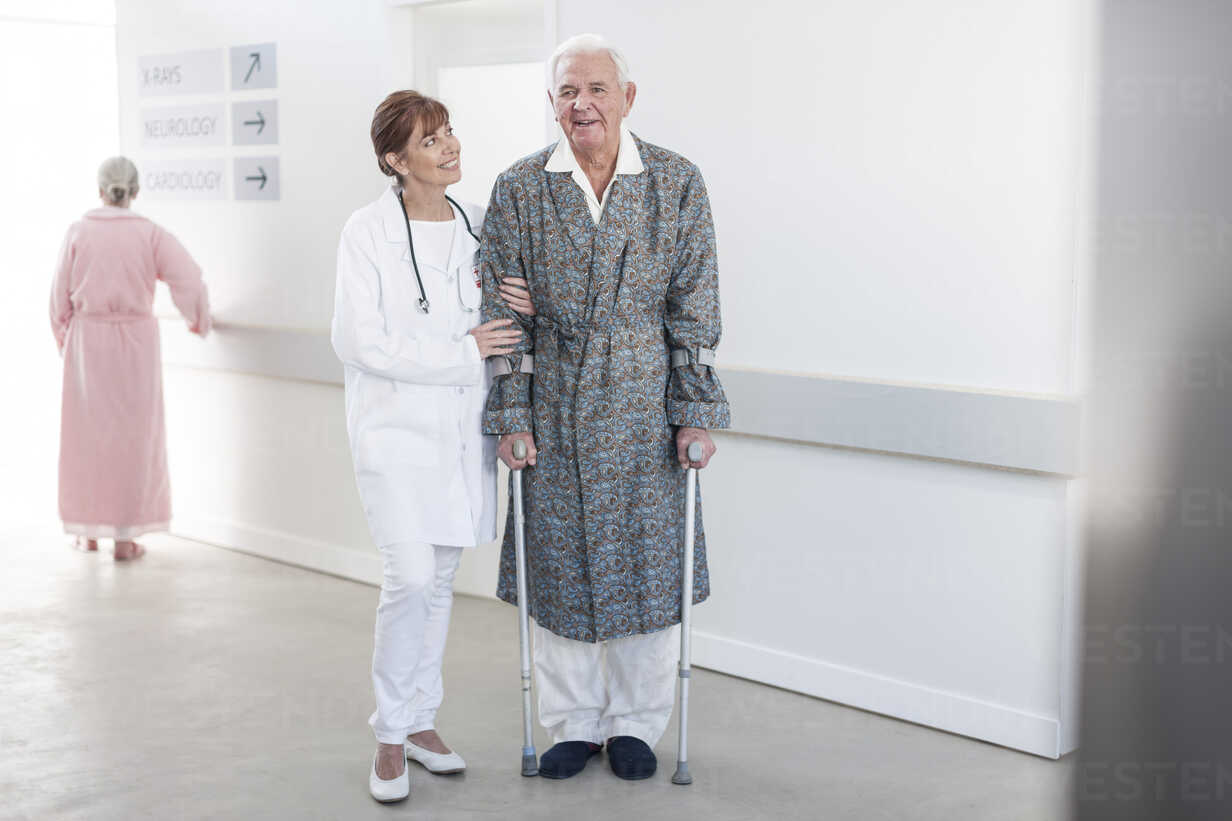crutches: (477, 33, 733, 787)
